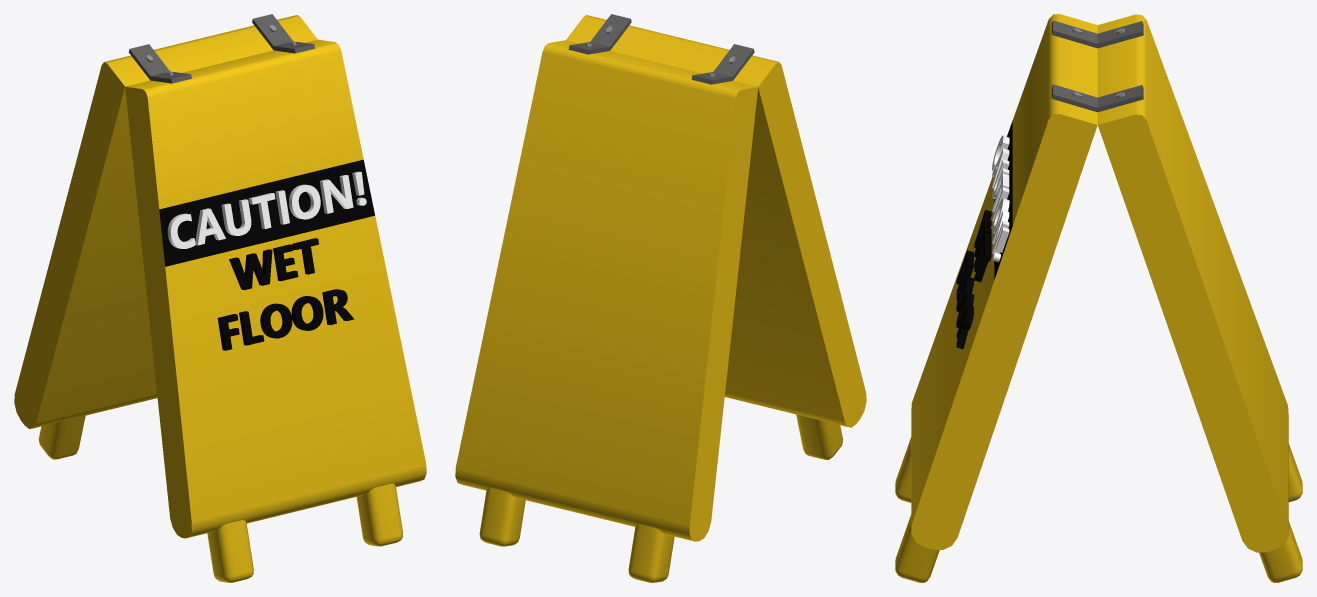
The model's file is Plate.fbx.
3 renders of one model, left to right at view 1: azimuth 30°, elevation 25°; view 2: azimuth 150°, elevation 25°; view 3: azimuth 270°, elevation 25°, orthographic. The views are drawn at different scales.
Parts seen in each view (by area): view 1: Plate; view 2: Plate; view 3: Plate.
Boxes of the visible parts, left/top/right/bottom form: Plate: left=14, top=14, right=426, bottom=582; Plate: left=455, top=14, right=866, bottom=582; Plate: left=895, top=14, right=1302, bottom=582.
Size of the model in its own units: 0.4851 by 0.8968 by 0.6861.
